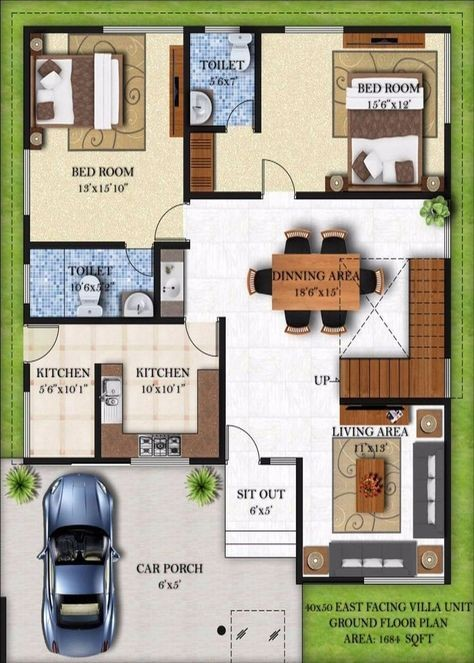room: (200, 188, 456, 406), (183, 22, 453, 197), (21, 24, 191, 251), (19, 22, 189, 249), (294, 398, 453, 586), (93, 314, 230, 466), (20, 237, 164, 327), (17, 319, 103, 465)
